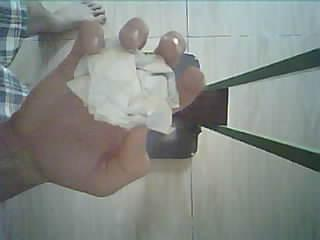paper: (68, 36, 179, 133)
